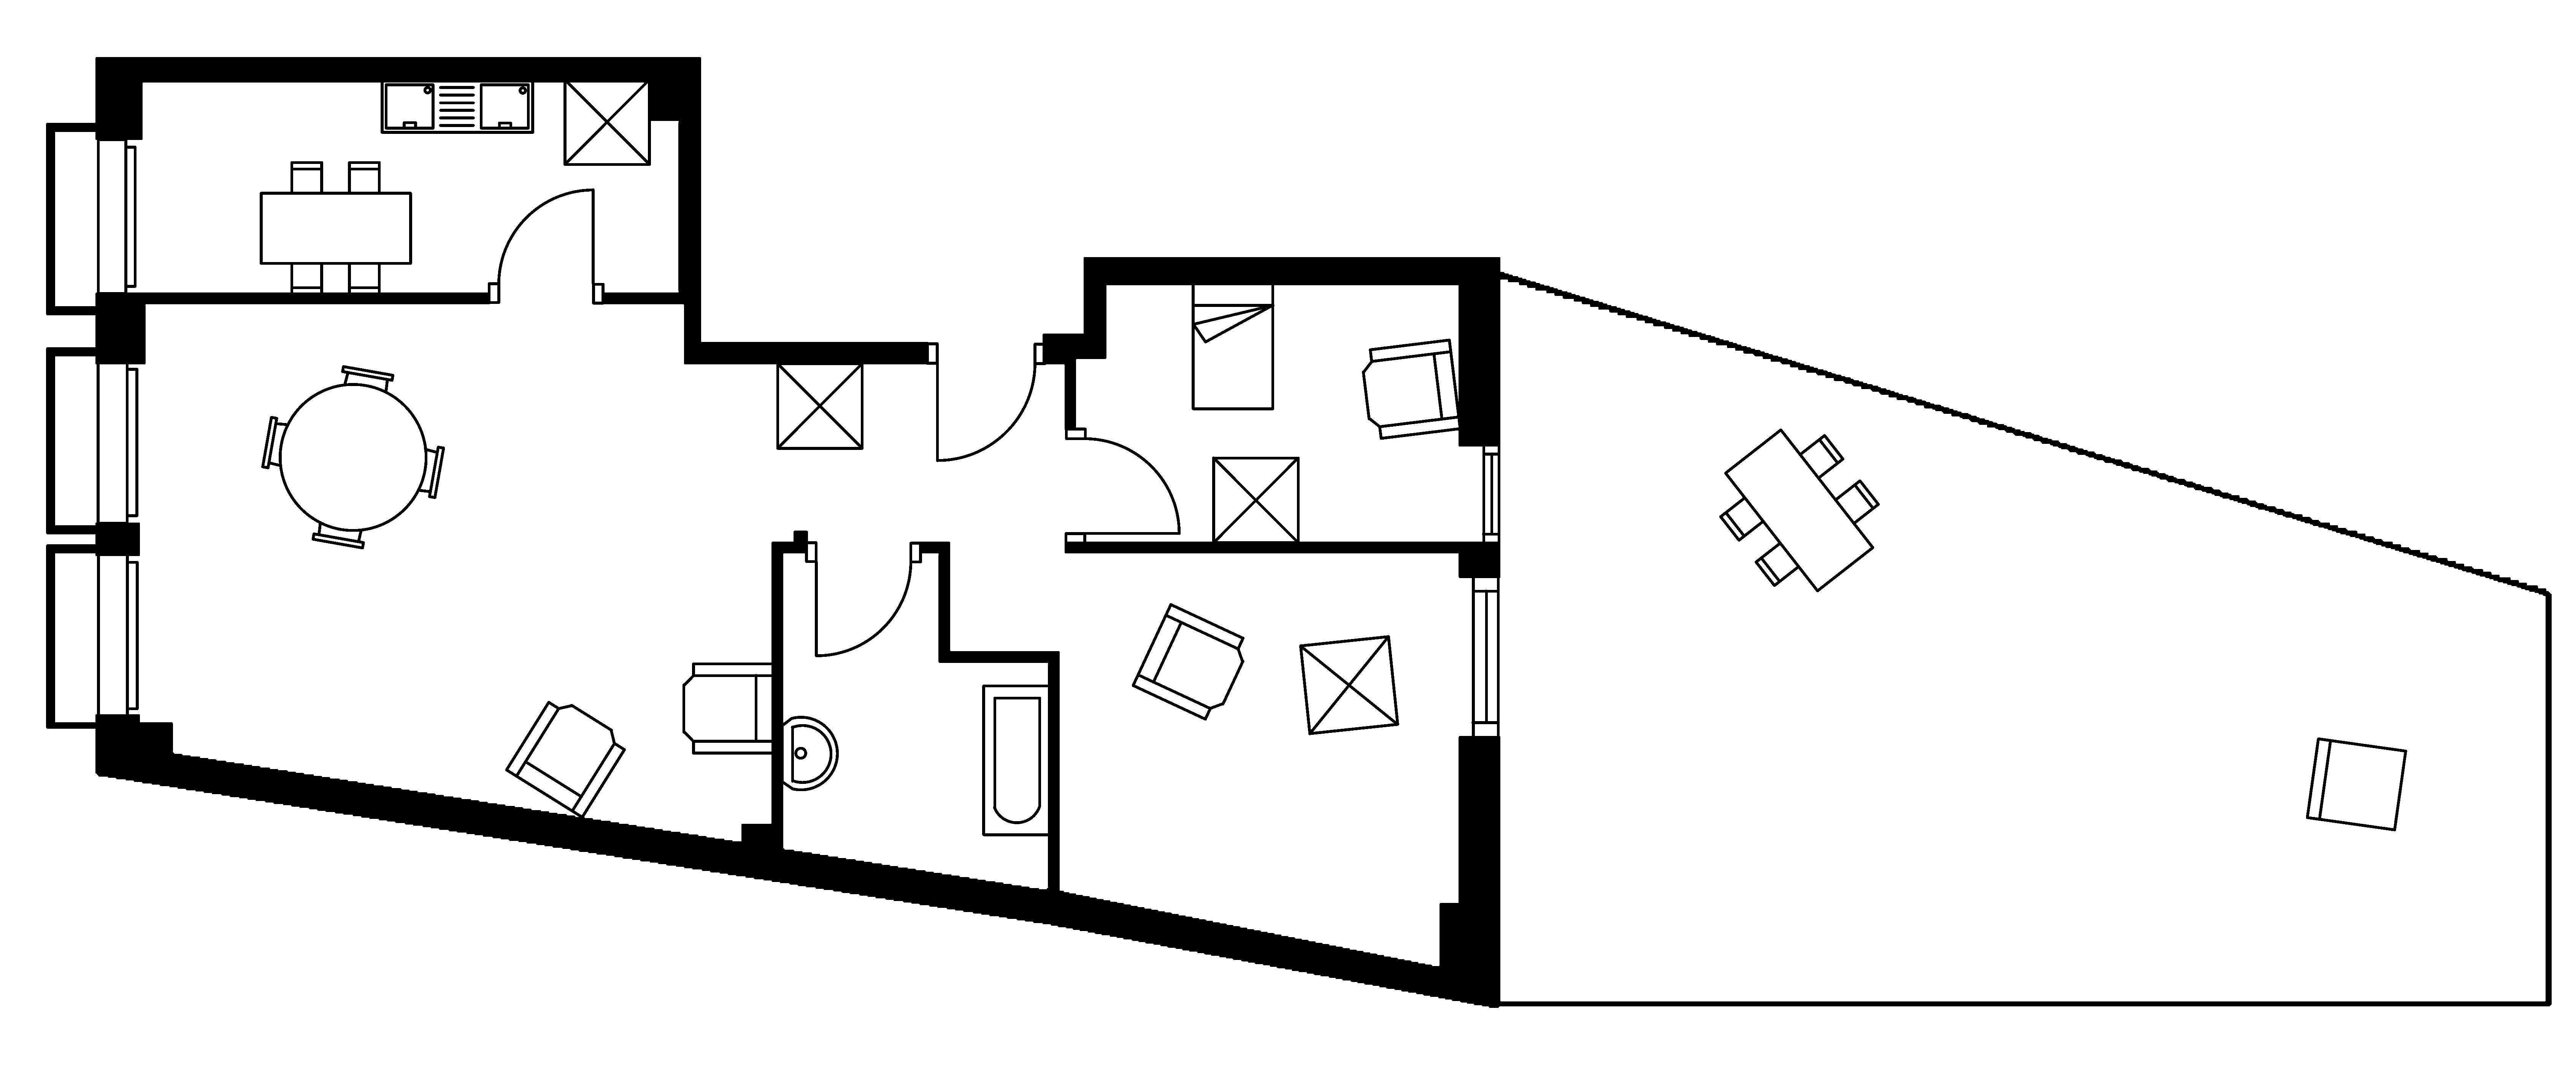armchair: (504, 701, 626, 819), (1130, 602, 1245, 720), (1362, 337, 1462, 441), (682, 661, 774, 755)
bed: (1191, 281, 1275, 411)
coffee_table: (1298, 635, 1400, 735), (562, 77, 651, 166), (775, 362, 864, 451), (1211, 456, 1299, 544)
dining_table: (1718, 428, 1879, 592), (260, 160, 412, 296)
round_table: (261, 365, 445, 549)
small_sink: (780, 715, 838, 791)
small_sofa: (2305, 737, 2407, 832)
tub: (981, 684, 1051, 837)
twin_sink: (379, 77, 534, 133)
